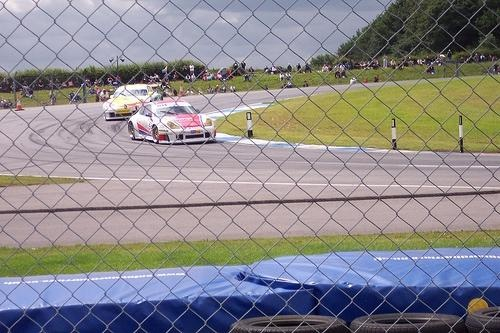car: (128, 100, 219, 148), (104, 82, 167, 121)
